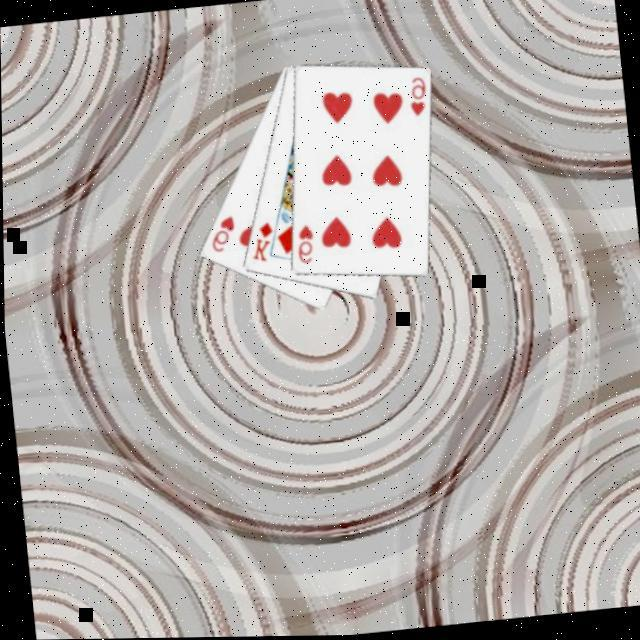6H: (206, 212, 240, 256), (292, 220, 319, 266), (405, 73, 432, 119)
KD: (247, 218, 280, 265)
